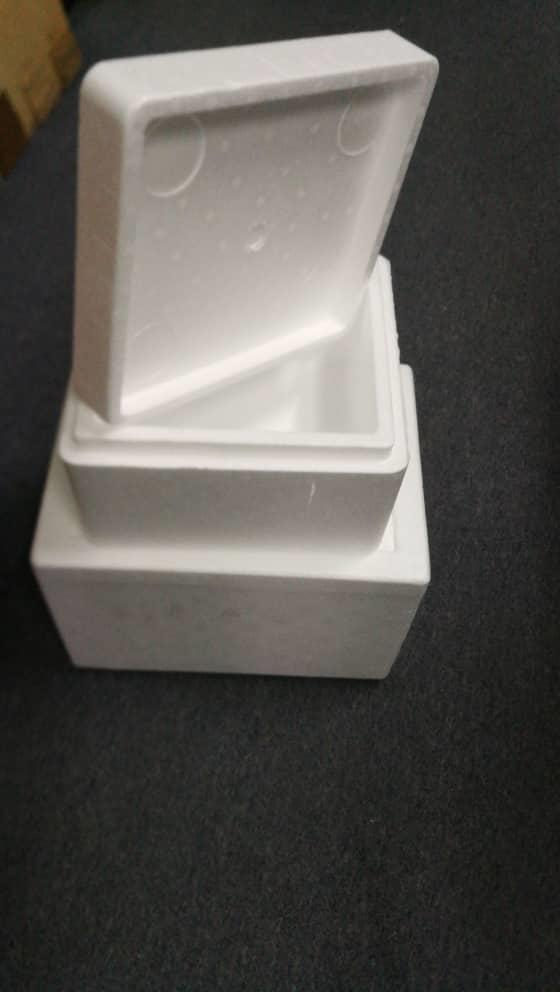Foam Box: (18, 10, 452, 690)
